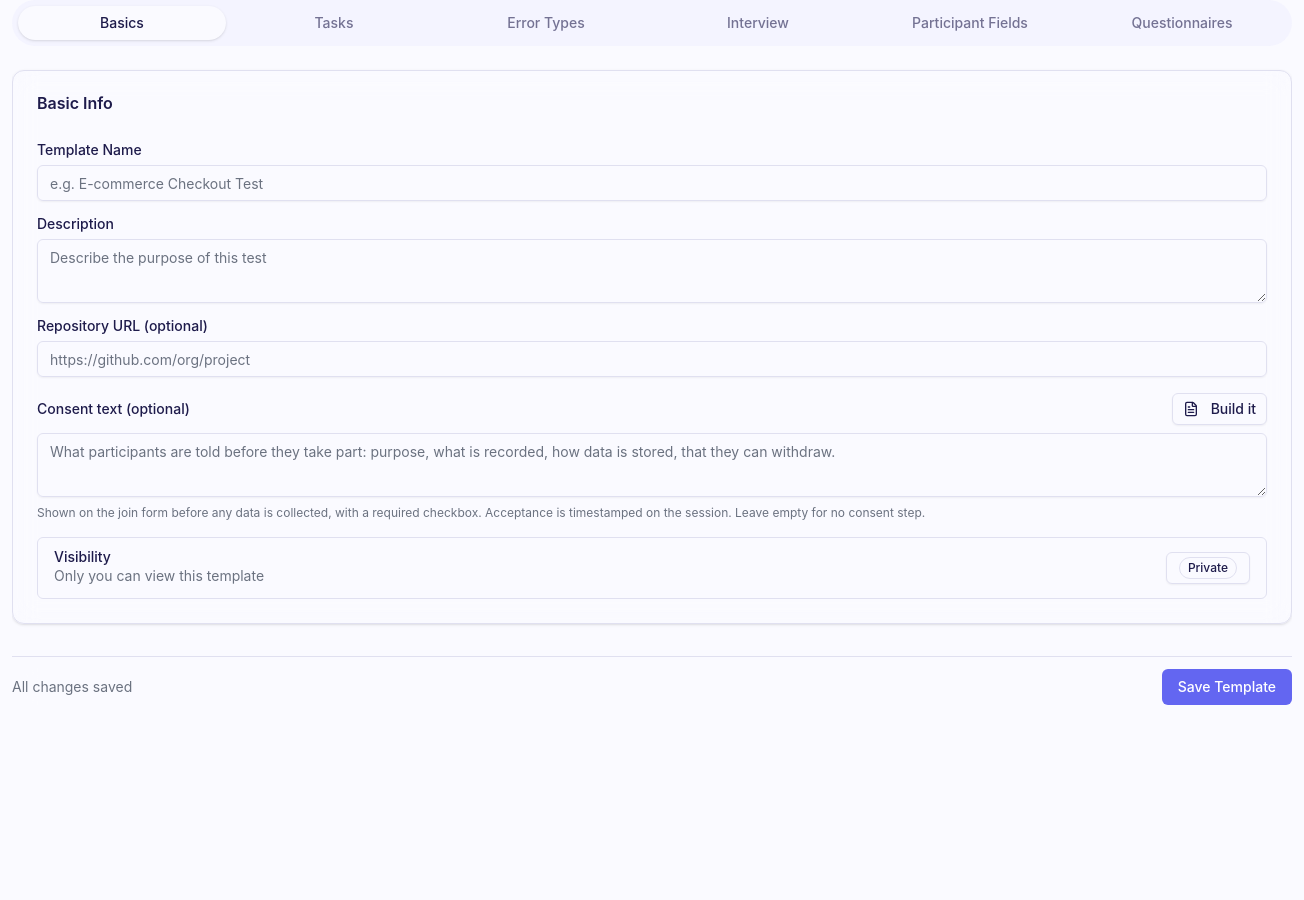
TemplateForm sections › reports unsaved changes once something is edited
This screenshot has width=1304, height=900.
Expected: the text "All changes saved" is shown, [12,677,132,697]
Type "Checkout study" into the field labelled "Template Name" at point(652, 183), box [37,165,1267,201]
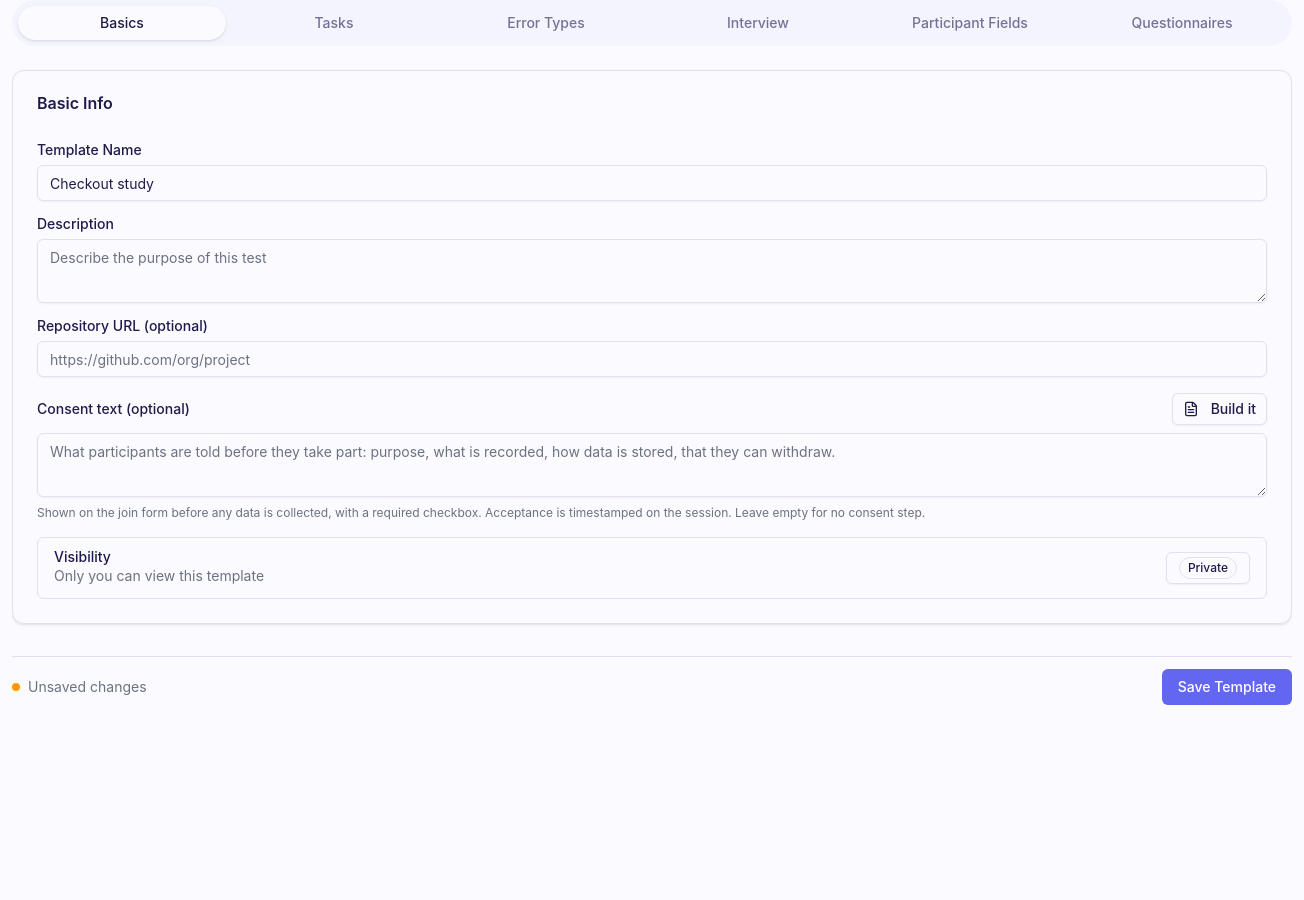
Expected: the text "Unsaved changes" is shown, [12,677,147,697]
